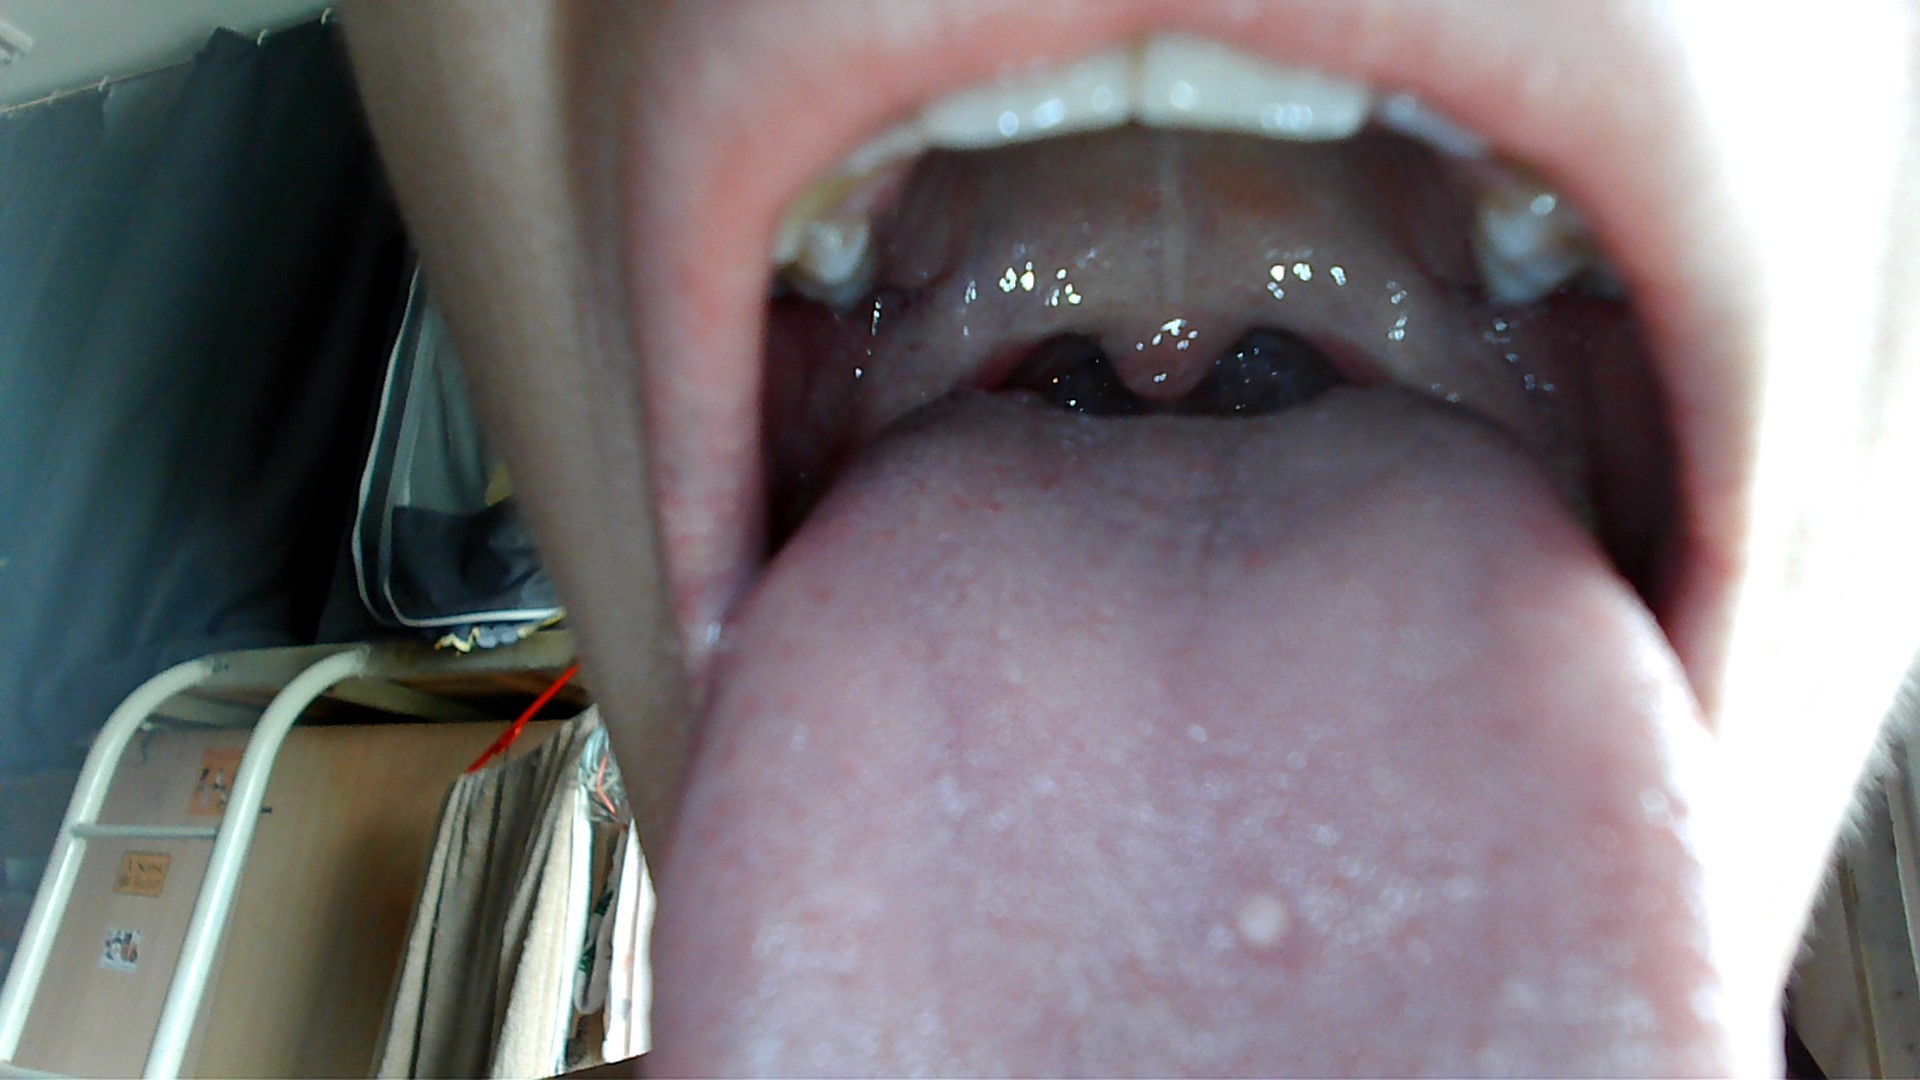throat: (866, 295, 1034, 396), (1309, 248, 1425, 384)
